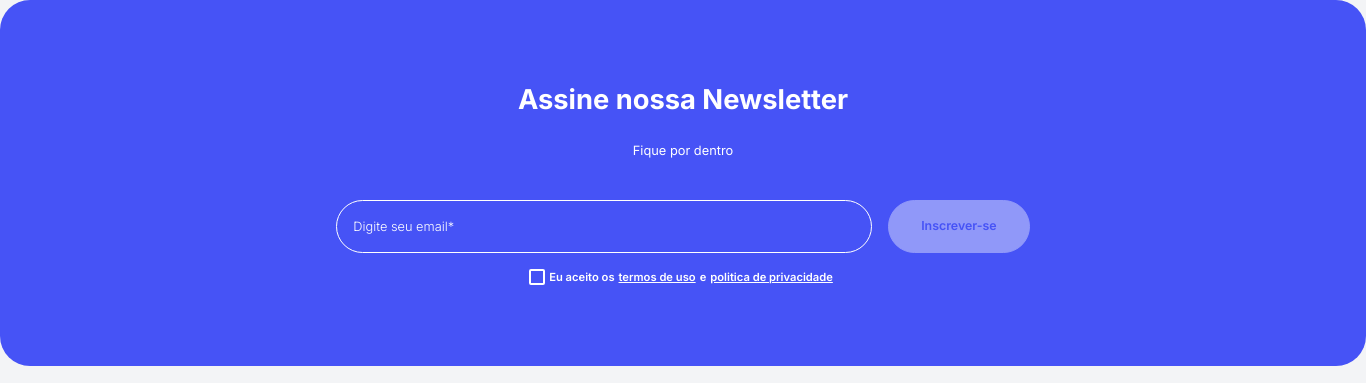
it: Newsletter form › shows loading and then success on 200 response
Type "valid@email.com" into the field with placeholder "Digite seu email*".
click(604, 227); type("valid@email.com")  # box [336,200,872,253]
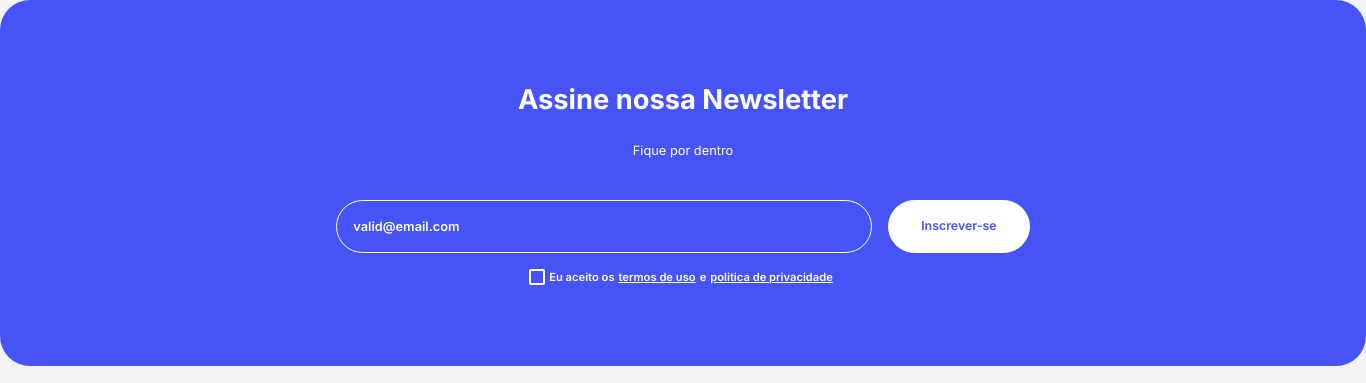
Click the checkbox.
click(537, 277)  # box [529,269,545,285]
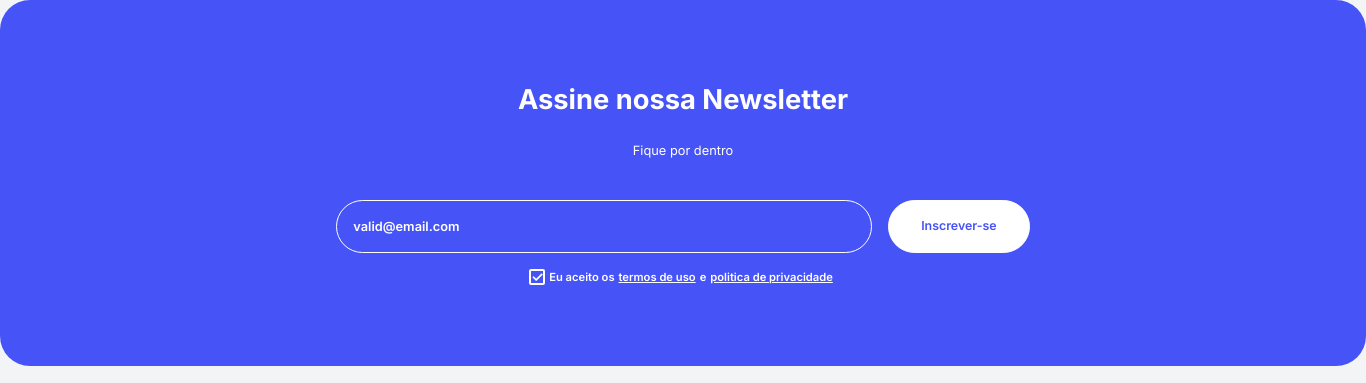
Click the button "Inscrever-se".
click(959, 226)  # box [888,200,1030,253]
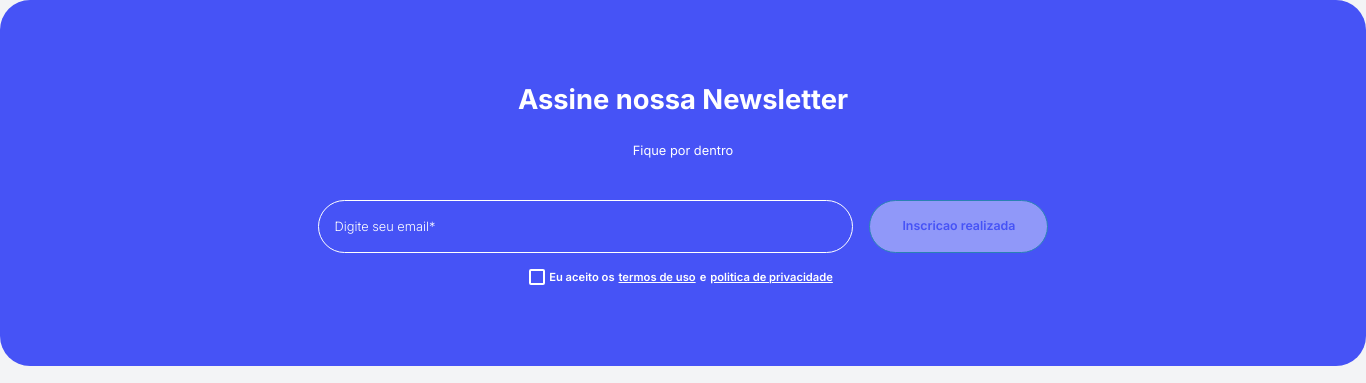
Expected: the checkbox is not checked, [529,269,545,285]
Expected: the button named "Enviando..." is disabled, [869,200,1048,253]
Expected: the field with placeholder "Digite seu email*" is empty, [318,200,853,253]
